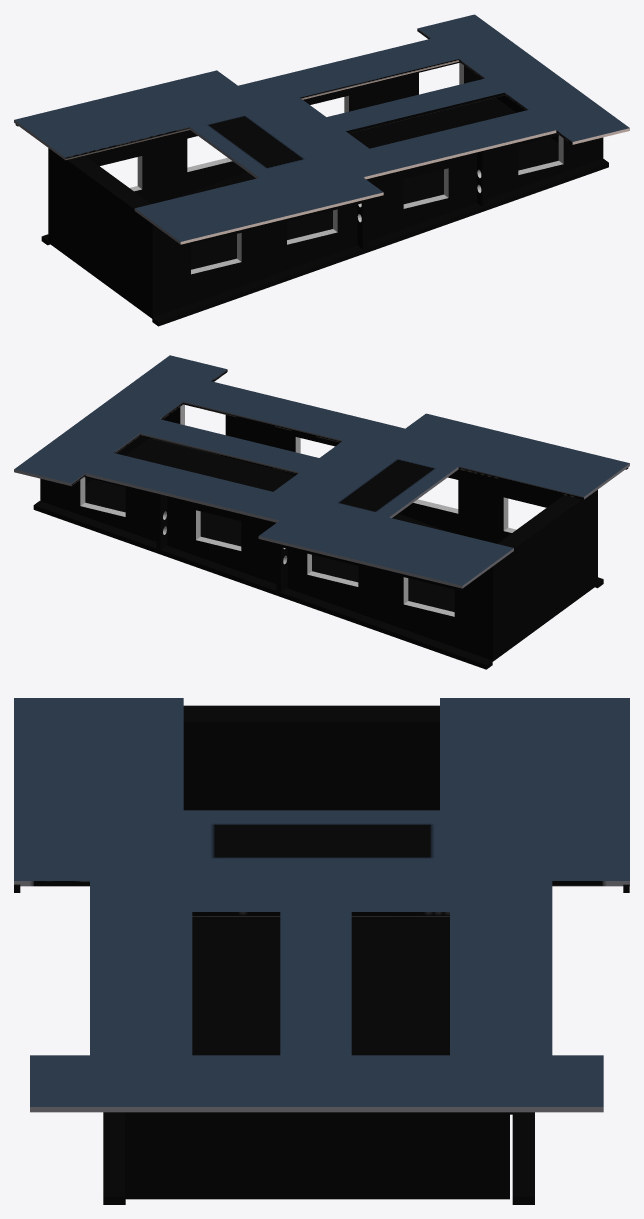
File: dizuo_2.glb
The picture shows the model from 3 angles, top to bottom: view 1: azimuth 30°, elevation 25°; view 2: azimuth 150°, elevation 25°; view 3: azimuth 270°, elevation 25°; orthographic projection. The views are drawn at different scales.
Visible parts, largest first — view 1: 底盘2; view 2: 底盘2; view 3: 底盘2.
Part boxes in pixels (<box>): 底盘2: <box>14,14,629,326</box>; 底盘2: <box>14,355,629,669</box>; 底盘2: <box>14,698,629,1204</box>.
Bounding box in the file's own units: 17.3 × 3.75 × 11.02.
3 materials, 1 textured.
